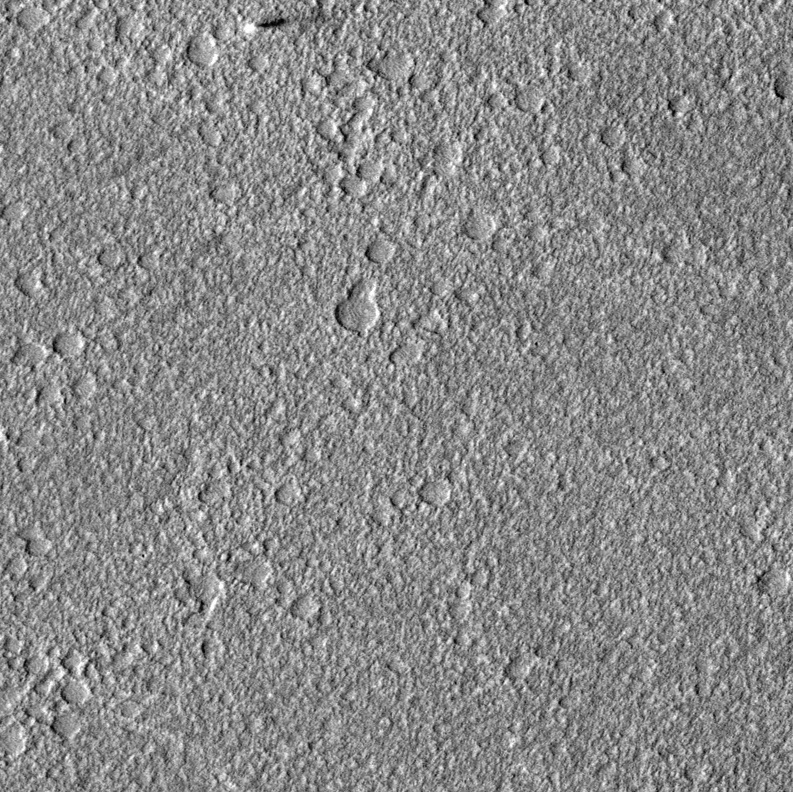dust_devil: (242, 16, 287, 34)
